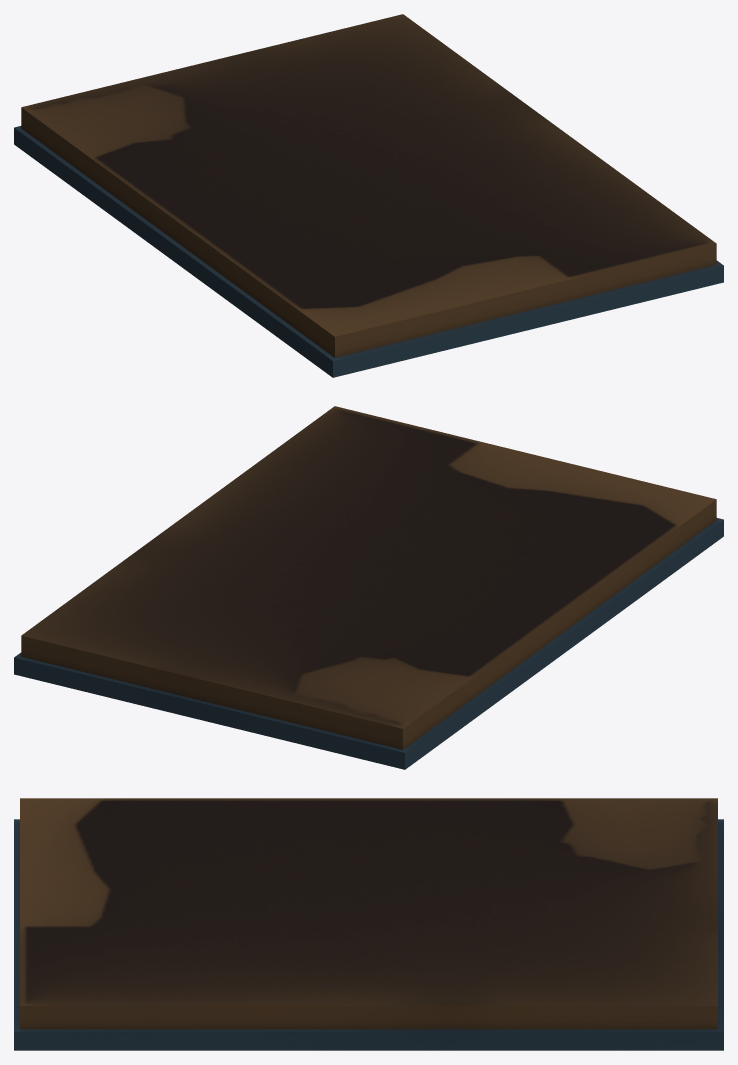
Rendered from Ground_02.FBX.
The picture shows the model from 3 angles, top to bottom: view 1: azimuth 30°, elevation 25°; view 2: azimuth 150°, elevation 25°; view 3: azimuth 270°, elevation 25°; orthographic projection. The views are drawn at different scales.
Visible parts, largest first — view 1: Ground_02; view 2: Ground_02; view 3: Ground_02.
Boxes of the visible parts, x1,y1,x2,y2 form: Ground_02: (14, 14, 723, 377); Ground_02: (14, 406, 723, 769); Ground_02: (14, 798, 723, 1050).
Size of the model in its own units: 18.26 by 1.69 by 25.79.
